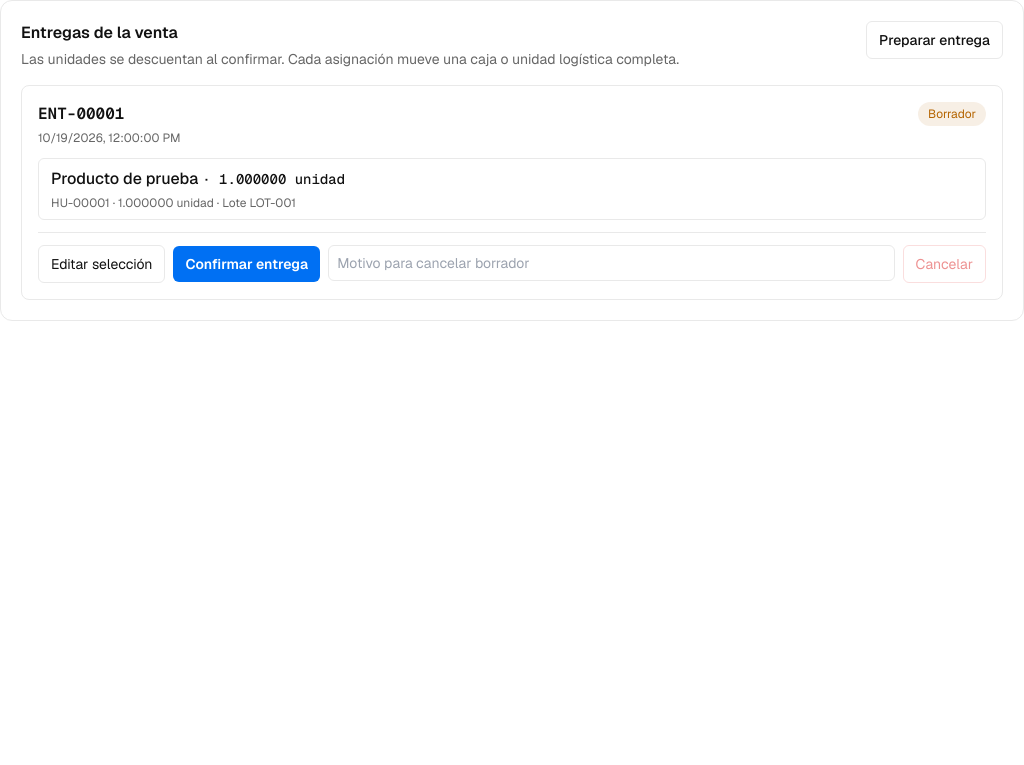
SalesDeliveryPanel › exige guardar la selección y notas editadas antes de confirmar la entrega
Click the button "Editar selección" at [102, 264], box x1=38 y1=245 x2=166 y2=283
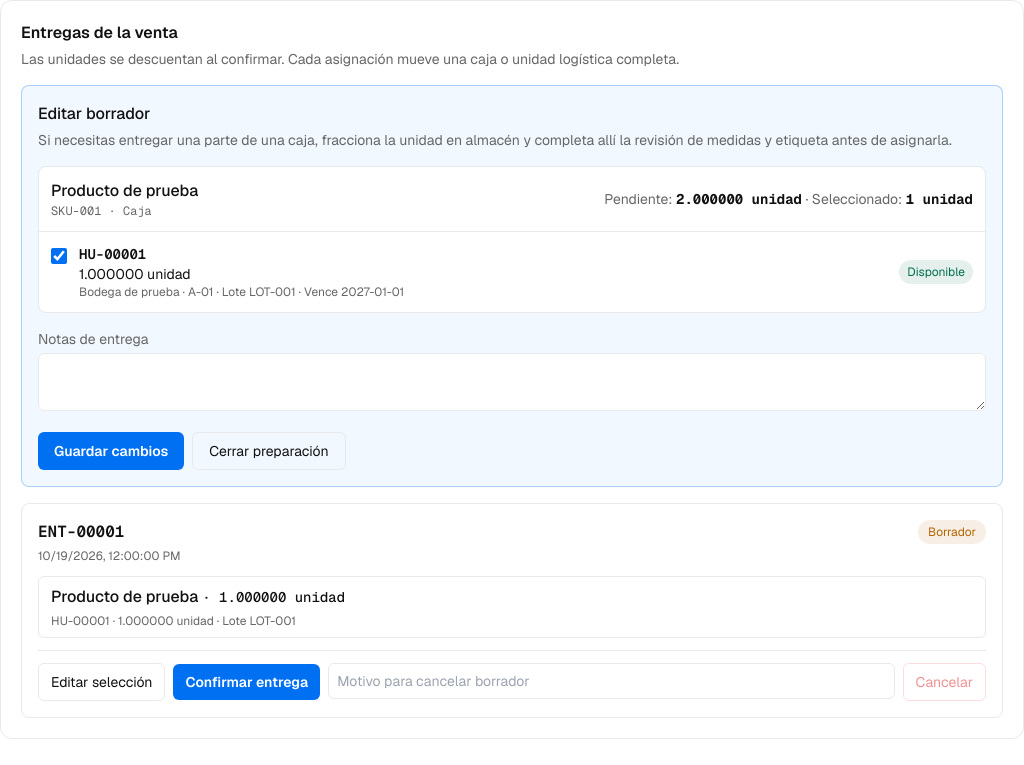
Expected: the button "Confirmar entrega" is enabled, x1=174 y1=664 x2=320 y2=700
Click the checkbox named "Seleccionar unidad HU-00001" at [59, 256], box x1=51 y1=248 x2=67 y2=264
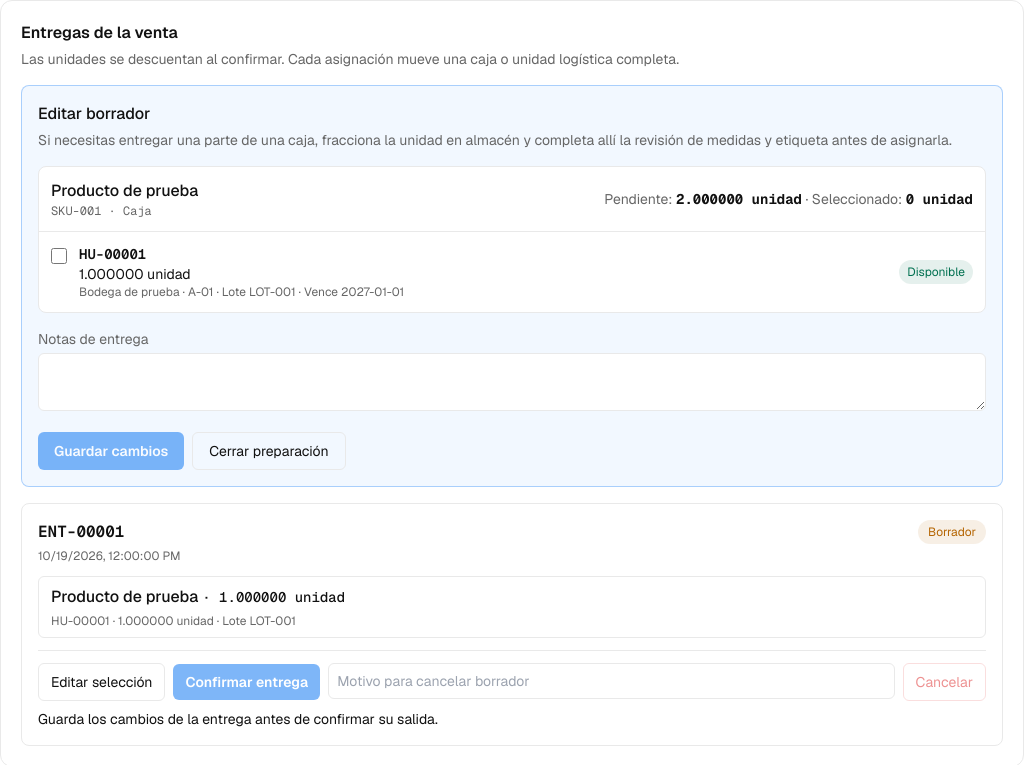
Result: the button "Confirmar entrega" is disabled
Result: the message shows "Guarda los cambios de la entrega" at x1=38 y1=710 x2=438 y2=728
Click the button "Confirmar entrega" at [247, 682], box x1=174 y1=664 x2=320 y2=700
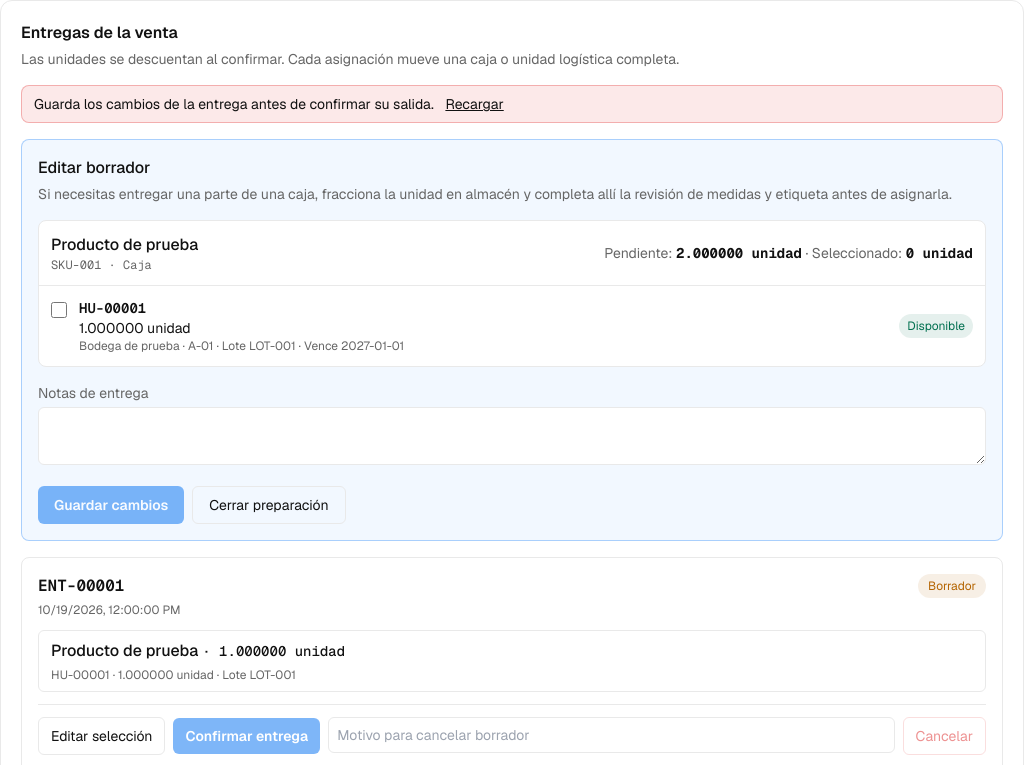
Click the checkbox named "Seleccionar unidad HU-00001" at [59, 310], box x1=51 y1=302 x2=67 y2=318
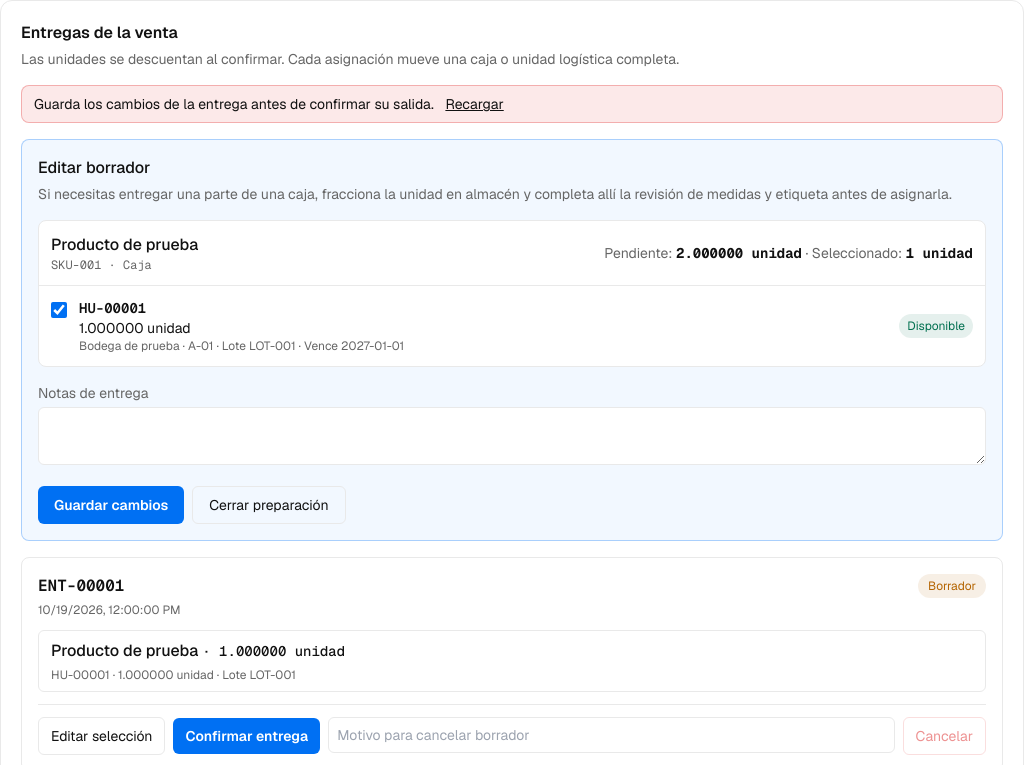
Result: the button "Confirmar entrega" is enabled at x1=174 y1=718 x2=320 y2=754
Type "Nueva revisión del despacho" into the text box labelled "Notas de entrega" at [512, 436], box x1=38 y1=407 x2=986 y2=465
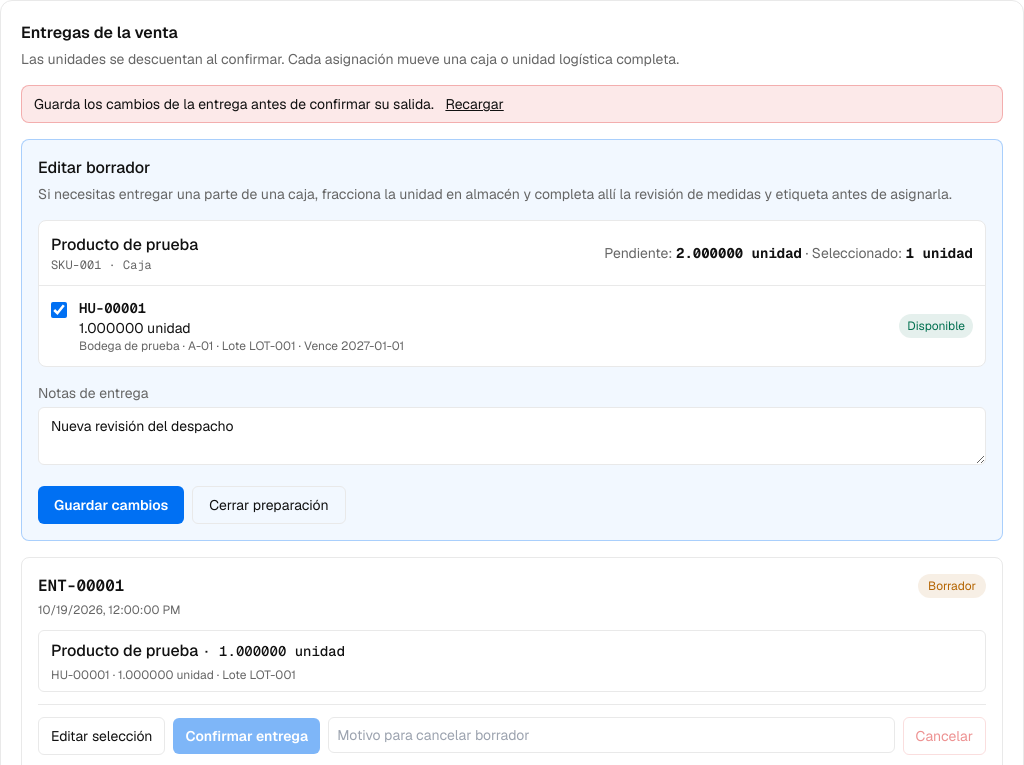
Result: the button "Confirmar entrega" is disabled at x1=174 y1=718 x2=320 y2=754
Click the button "Guardar cambios" at [111, 505], box x1=38 y1=486 x2=184 y2=524
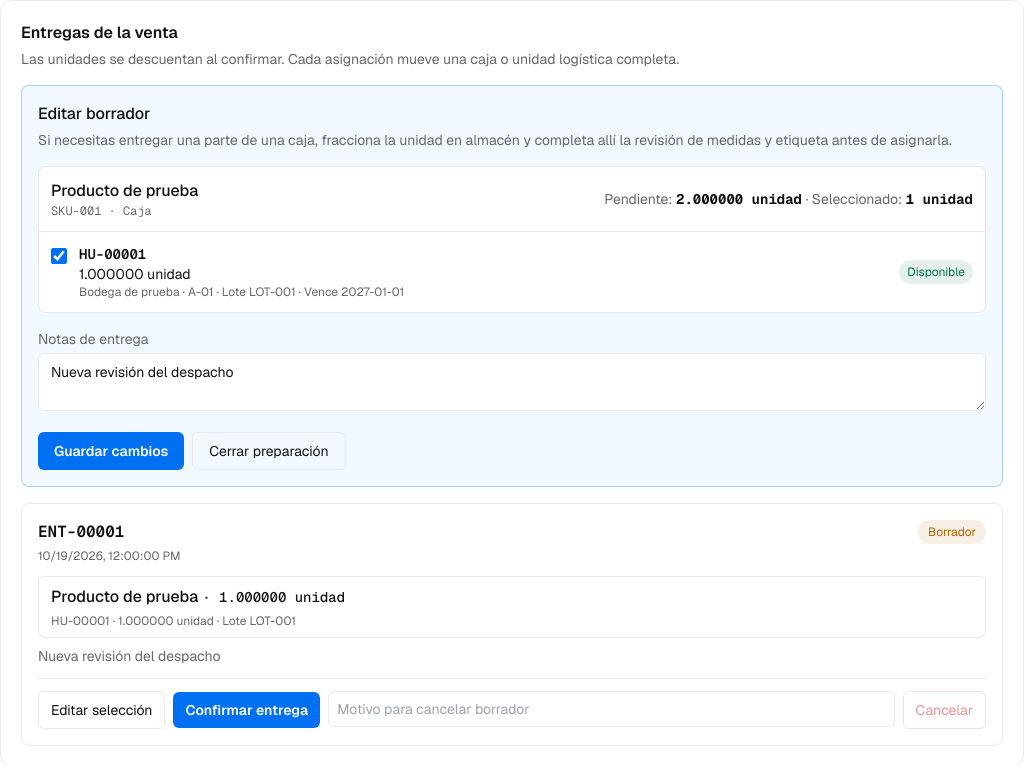
Result: the button "Confirmar entrega" is enabled at x1=174 y1=692 x2=320 y2=728
